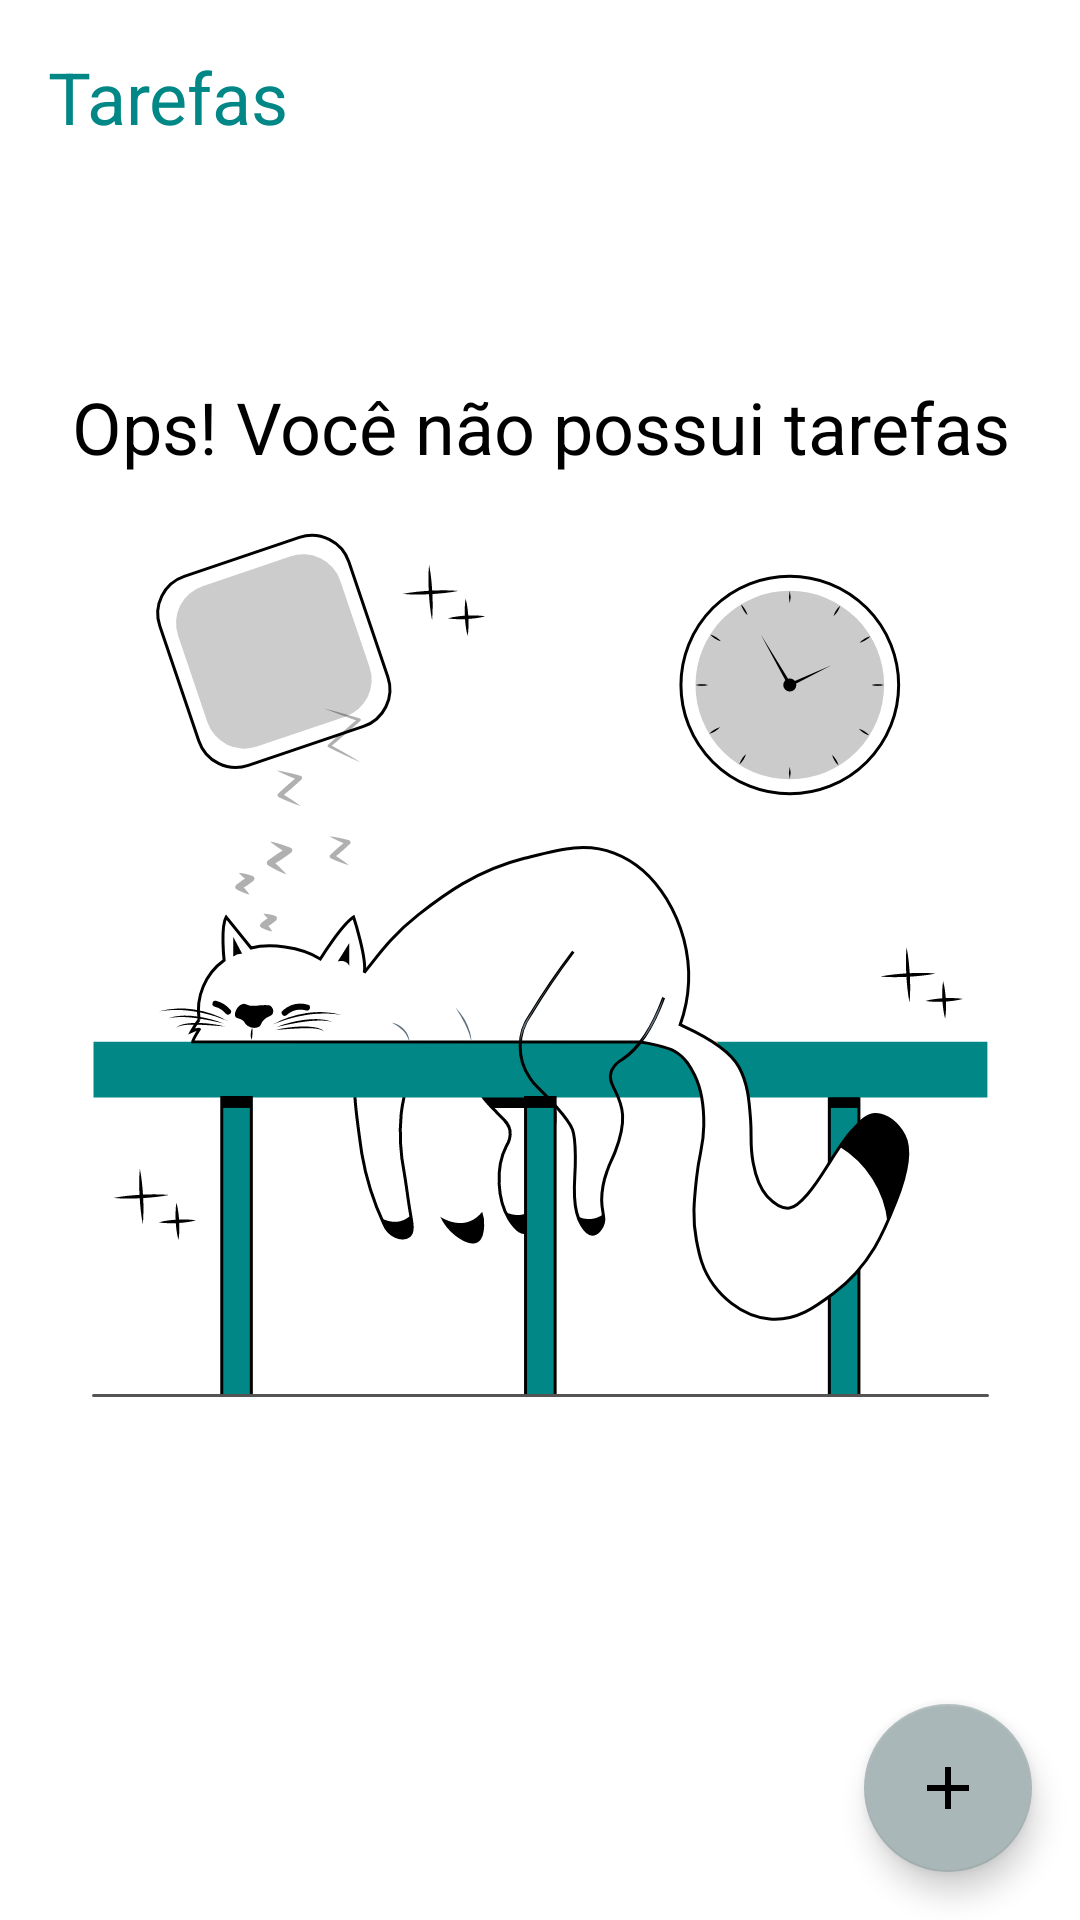

Locate icon controls on the screen. Image size 1080*1920, boxes as {"x1": x1, "y1": y1, "x2": x2, "y2": y2}.
Nova tarefa: {"x1": 864, "y1": 1704, "x2": 1032, "y2": 1872}
